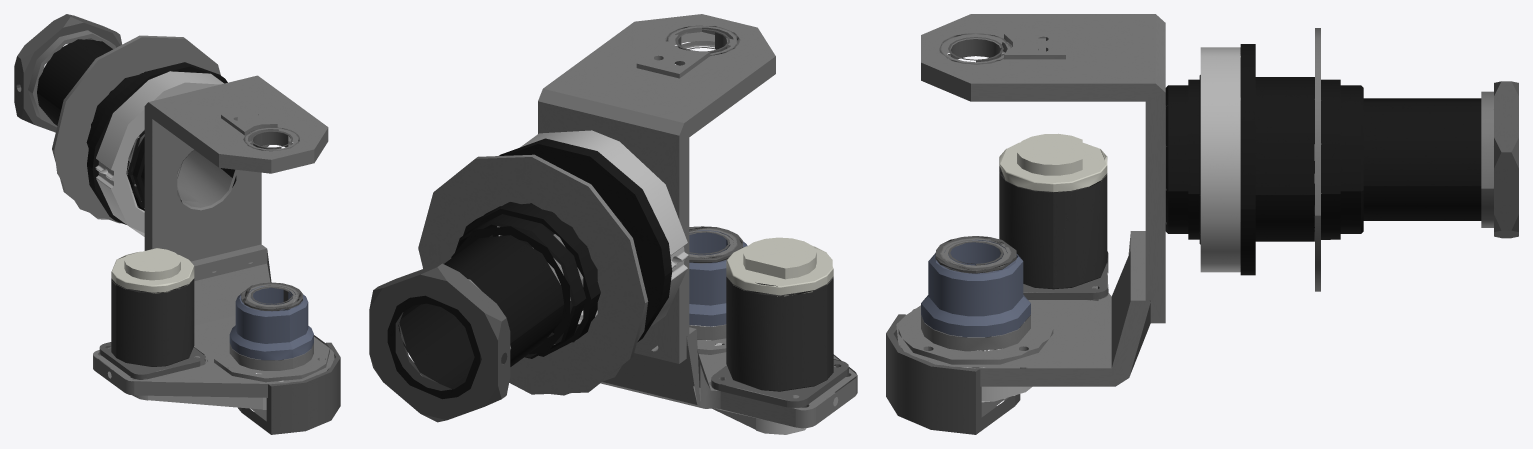
Rendered from neck_3_joint.obj.
3 renders of one model, left to right at view 1: azimuth 30°, elevation 25°; view 2: azimuth 150°, elevation 25°; view 3: azimuth 270°, elevation 25°, orthographic. The views are drawn at different scales.
Bounding box in the file's own units: 0.0665 × 0.0792 × 0.1267.
1 material, 1 textured.
